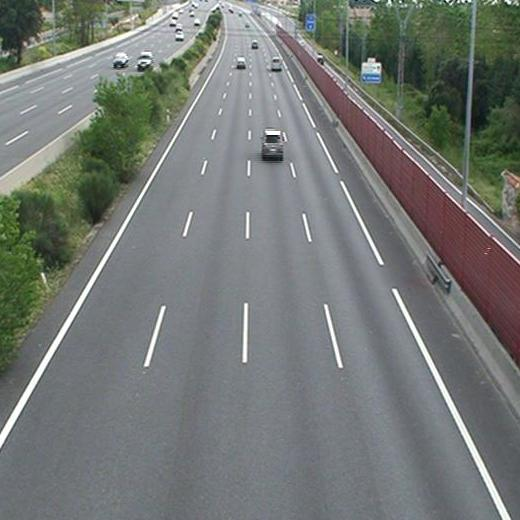car: (261, 130, 283, 155), (271, 57, 282, 70), (237, 58, 246, 67)
